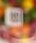2d: (9, 9, 22, 23)
